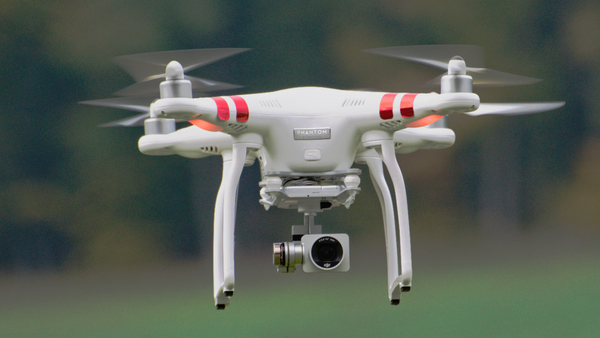drone: (92, 45, 568, 312)
